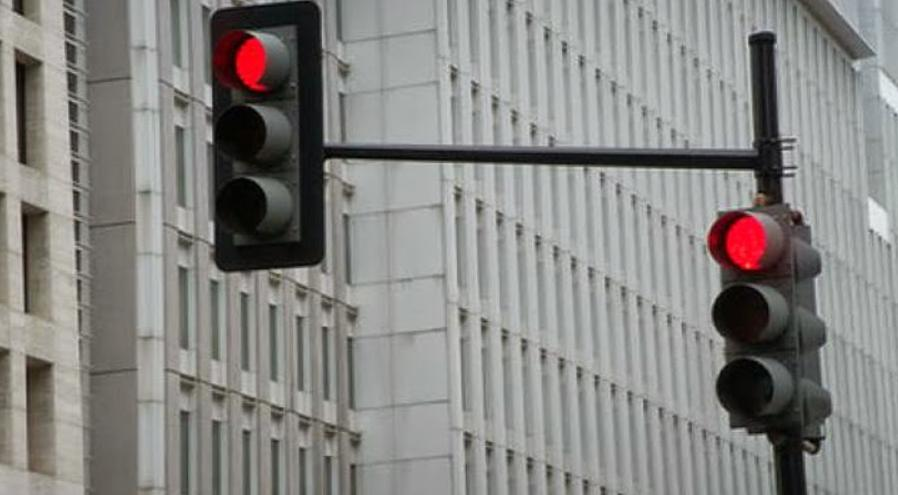red_light: (209, 1, 326, 272), (708, 202, 805, 429)
